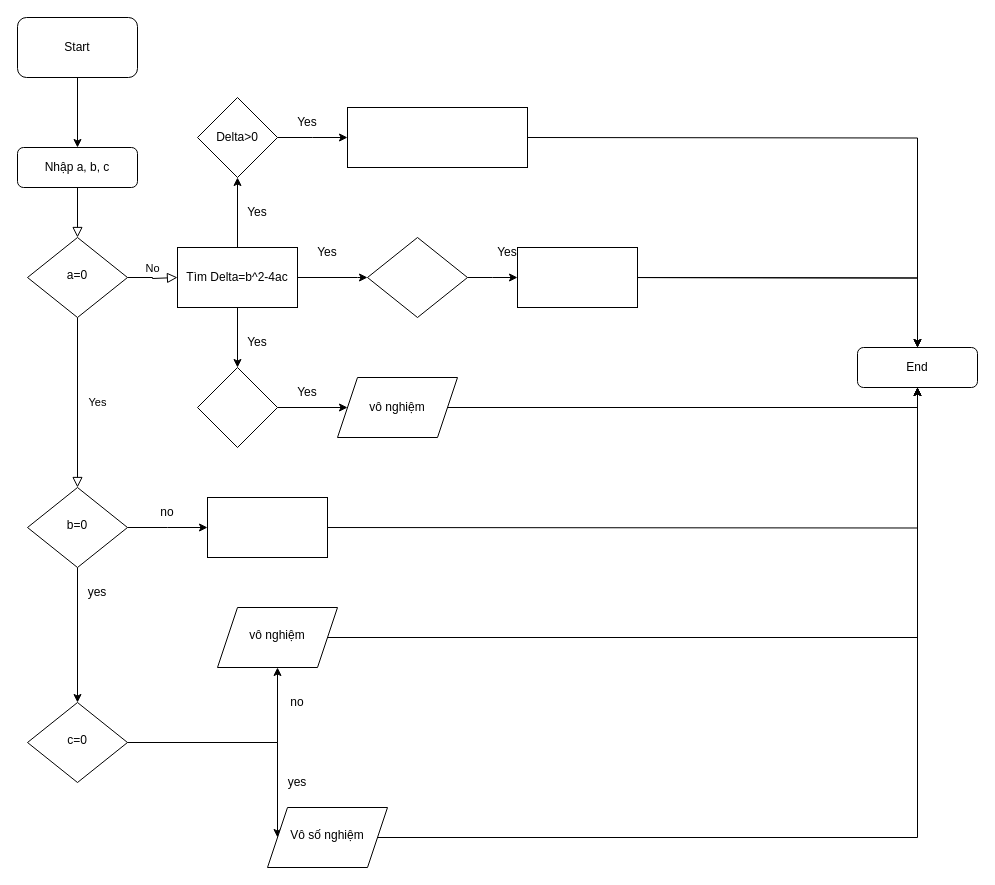
Some shapes in this 995 by 885 pixel diagram are drawn without their labels. Each missing label, with the centre of its shape:
Delta<0: the point at 237,407
Delta=0: the point at 417,277
x1=-b+sqrt(Delta)/2a x2= -b-sqrt(Delta)/2a: the point at 437,137
x1=x2=-b/2a: the point at 577,277
x=-c/b: the point at 267,527
